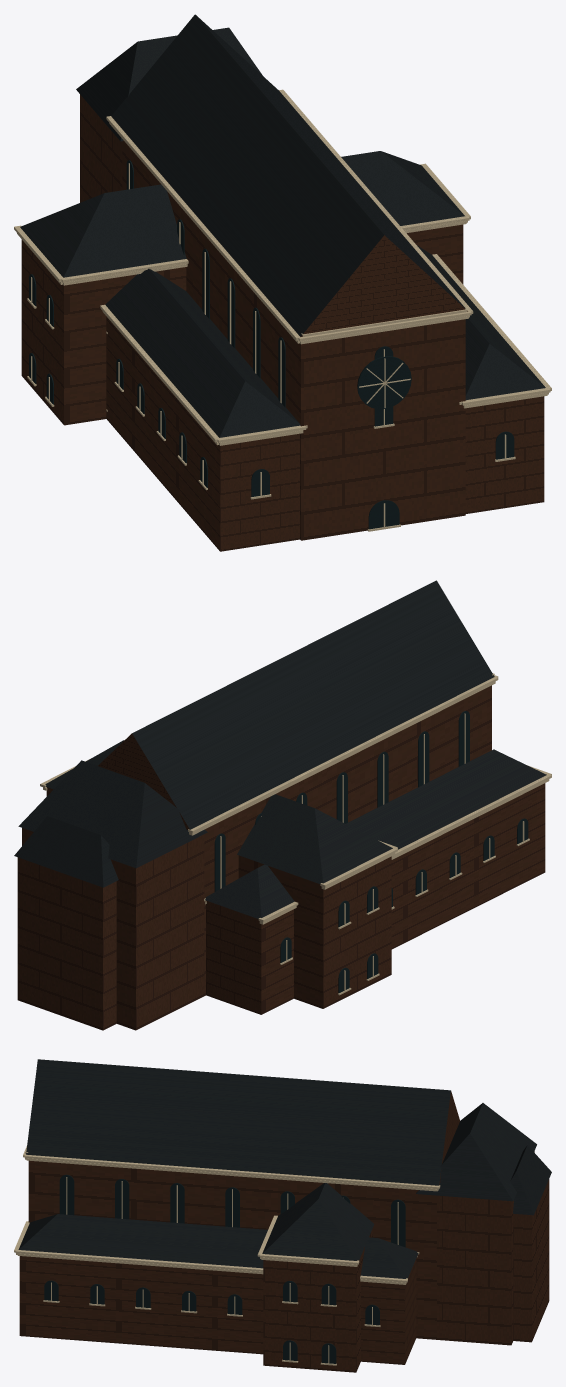
3 views of the same model, one above another, from view 1: azimuth 30°, elevation 25°; view 2: azimuth 150°, elevation 25°; view 3: azimuth 270°, elevation 25° (orthographic). The views are drawn at different scales.
Parts seen in each view (by area): view 1: bosjeskerk-0, bosjeskerk-1, bosjeskerk-3, bosjeskerk-2; view 2: bosjeskerk-0, bosjeskerk-1, bosjeskerk-3, bosjeskerk-2; view 3: bosjeskerk-0, bosjeskerk-1, bosjeskerk-3, bosjeskerk-2.
Boxes of the visible parts, x1,y1,x2,y2 form: bosjeskerk-0: (21, 94, 544, 551); bosjeskerk-1: (20, 14, 545, 437); bosjeskerk-3: (14, 89, 551, 531); bosjeskerk-2: (29, 160, 514, 529); bosjeskerk-0: (17, 685, 545, 1030); bosjeskerk-1: (14, 580, 546, 918); bosjeskerk-3: (40, 673, 551, 995); bosjeskerk-2: (214, 711, 528, 993); bosjeskerk-0: (19, 1091, 549, 1372); bosjeskerk-1: (18, 1059, 551, 1278); bosjeskerk-3: (14, 1146, 440, 1365); bosjeskerk-2: (44, 1174, 405, 1363).
Bounding box in the file's own units: 37.53 × 26 × 57.04.
Materials: 4 (4 with a texture image).
